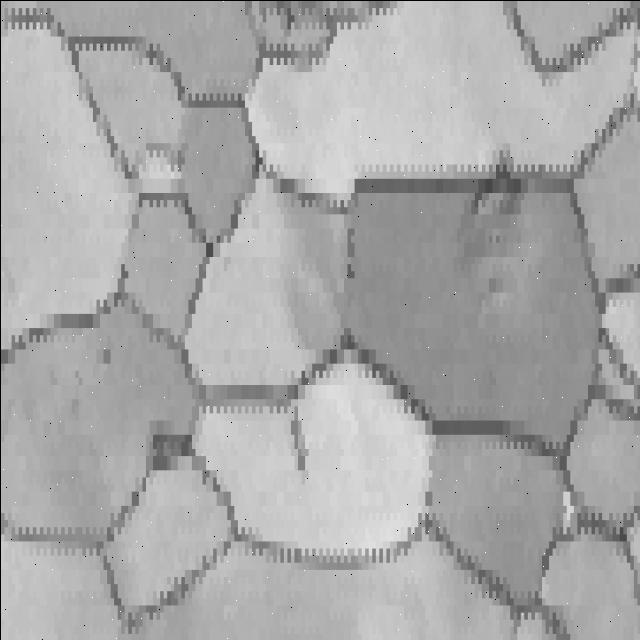good_void: (466, 145, 541, 250), (285, 407, 308, 482), (101, 343, 117, 363)
